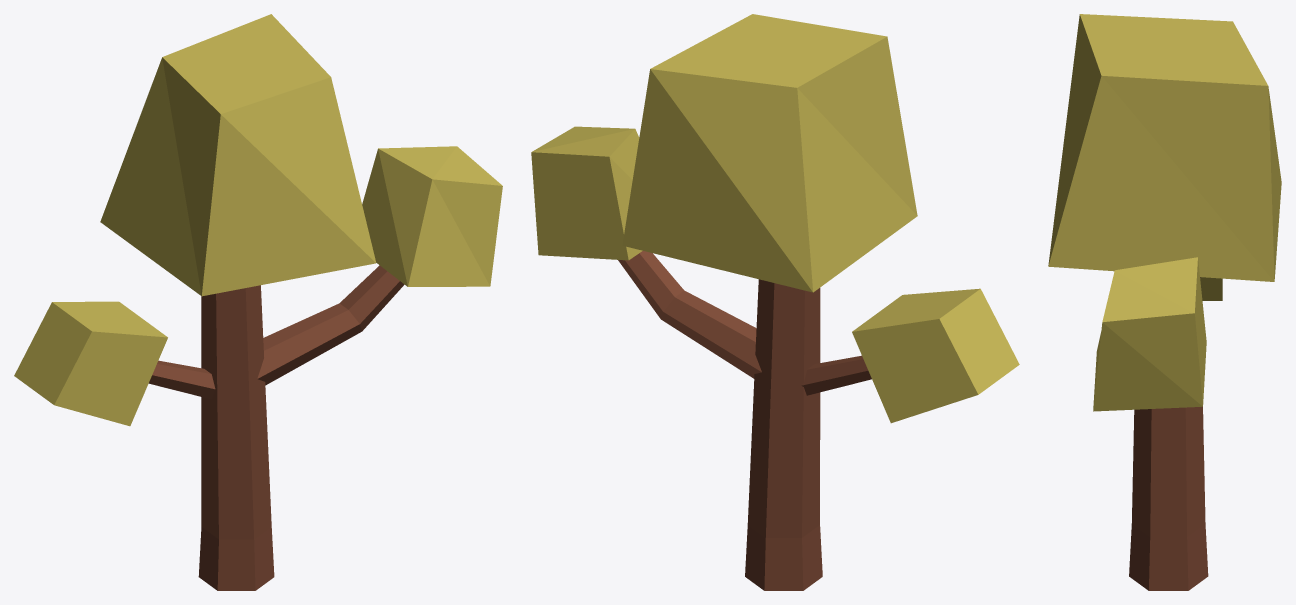
File: Tree_44_autumn_vc.fbx
The picture shows the model from 3 angles, left to right: view 1: azimuth 30°, elevation 25°; view 2: azimuth 150°, elevation 25°; view 3: azimuth 270°, elevation 25°; orthographic projection. The views are drawn at different scales.
Parts seen in each view (by area): view 1: Tree_44_autumn_vc; view 2: Tree_44_autumn_vc; view 3: Tree_44_autumn_vc.
Part boxes in pixels (box(x1,y1,x2,y2)): Tree_44_autumn_vc: box(14, 14, 502, 590); Tree_44_autumn_vc: box(531, 14, 1019, 590); Tree_44_autumn_vc: box(1048, 14, 1281, 590).
Bounding box in the file's own units: 162 × 179 × 70.99.
